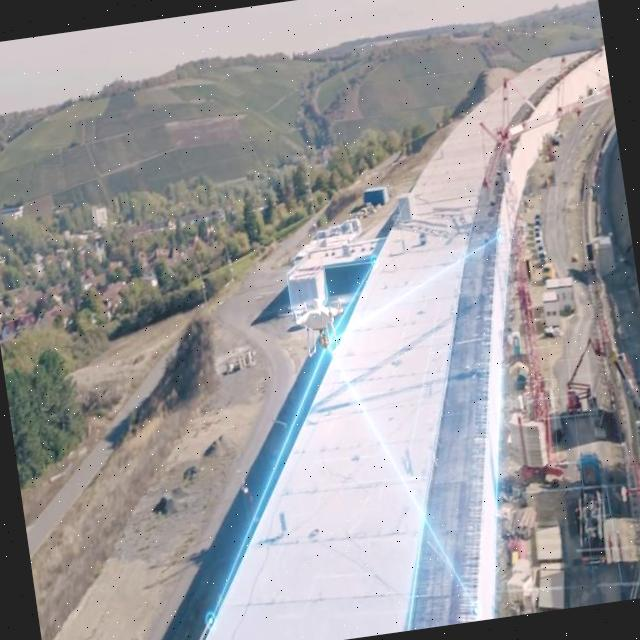drone: (282, 290, 362, 362)
